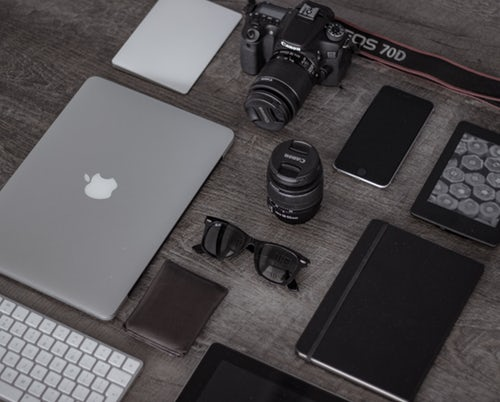phone: (335, 84, 441, 190)
